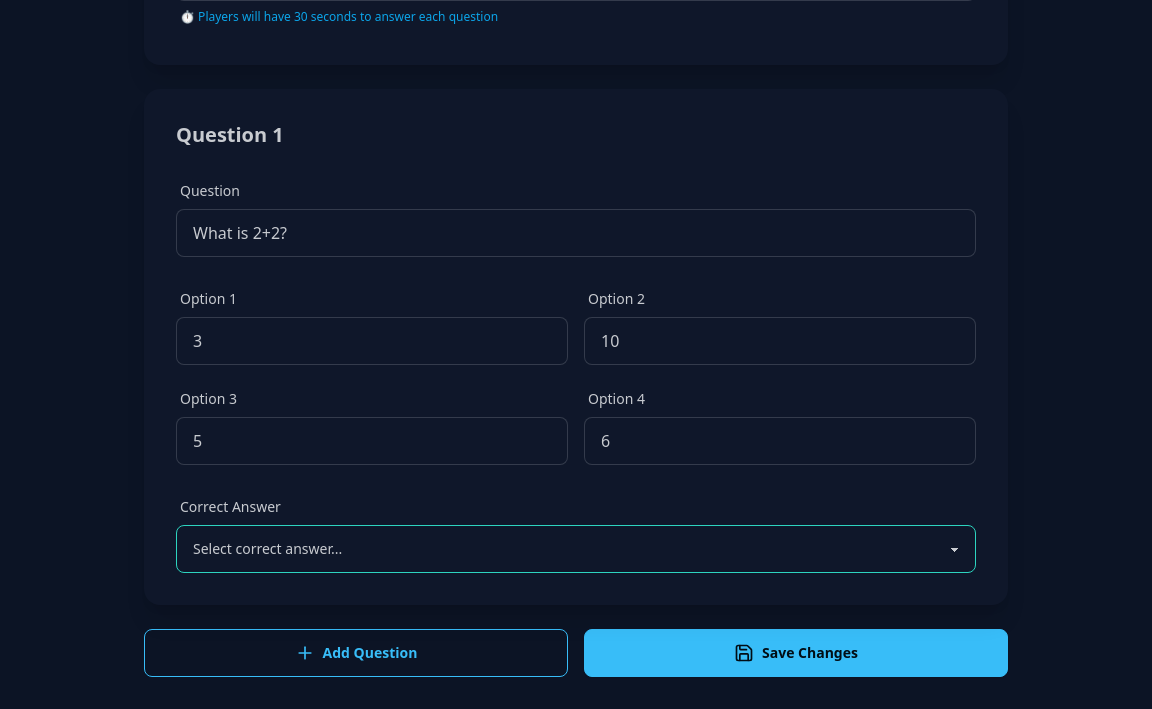
QuizEditPage › Form Submission › shows loading state during submission
The width and height of the screenshot is (1152, 709).
(page scrolled)
Click the button "Save Changes": point(796, 653) [584,629,1008,677]
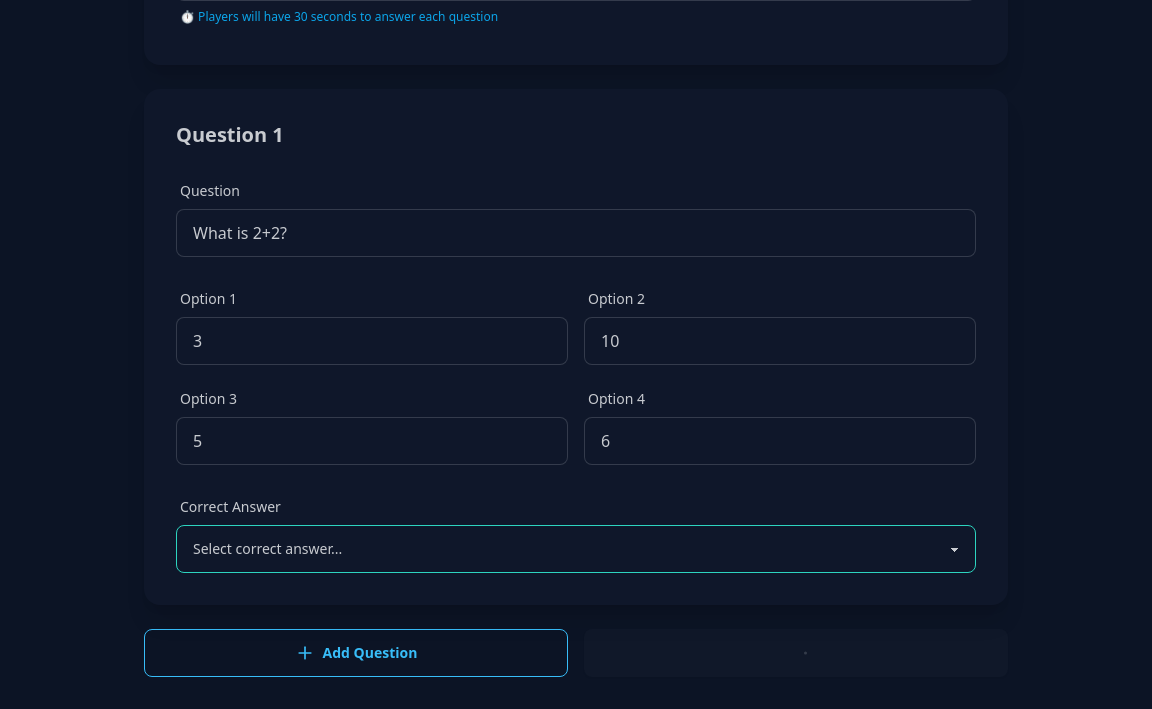
Expected: the element with class "loading-spinner" is shown, [784,641,808,665]
